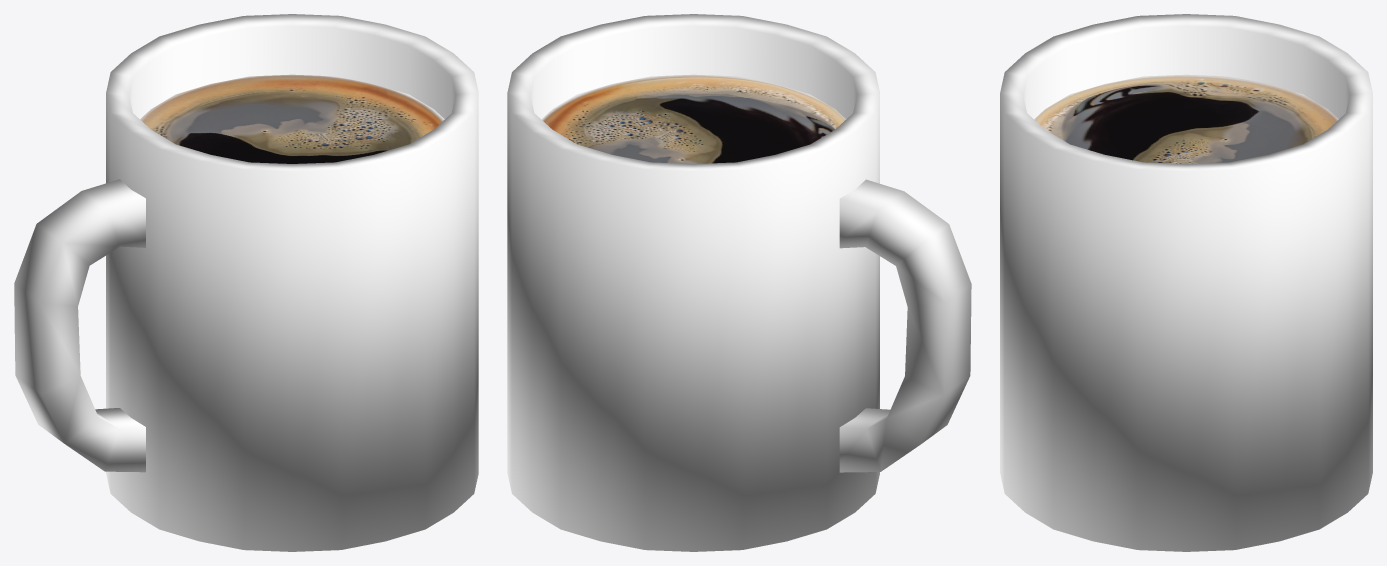
The model's file is coffee.glb.
3 renders of one model, left to right at view 1: azimuth 30°, elevation 25°; view 2: azimuth 150°, elevation 25°; view 3: azimuth 270°, elevation 25°, orthographic.
Parts seen in each view (by area): view 1: coffee_black_02, coffee_black_01; view 2: coffee_black_02, coffee_black_01; view 3: coffee_black_02, coffee_black_01.
Boxes of the visible parts, box(x1,y1,x2,y2) form: coffee_black_02: box(14, 14, 478, 551); coffee_black_01: box(140, 74, 444, 163); coffee_black_02: box(507, 14, 971, 551); coffee_black_01: box(541, 74, 845, 163); coffee_black_02: box(1000, 14, 1372, 551); coffee_black_01: box(1034, 74, 1338, 163).
Bounding box in the file's own units: 0.1516 × 0.1294 × 0.1148.
Materials: 1 (1 with a texture image).
